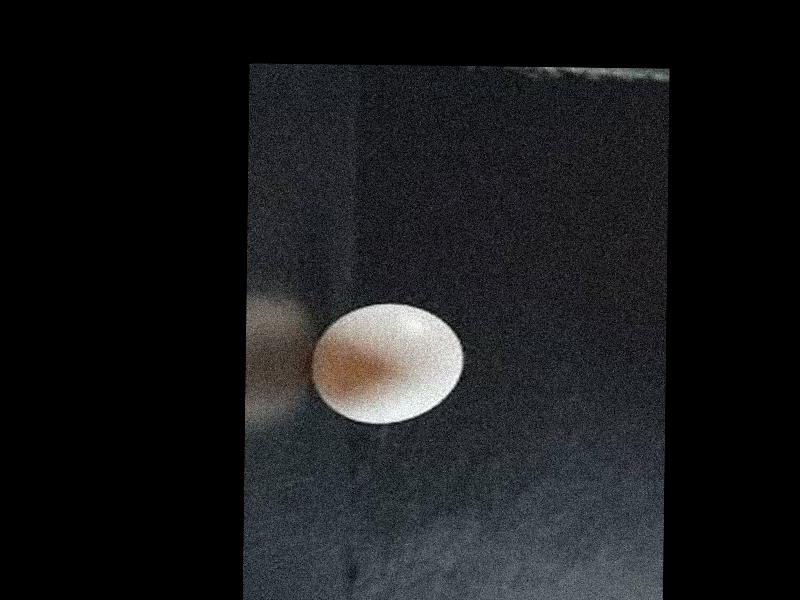Eggs: (311, 303, 467, 425)
